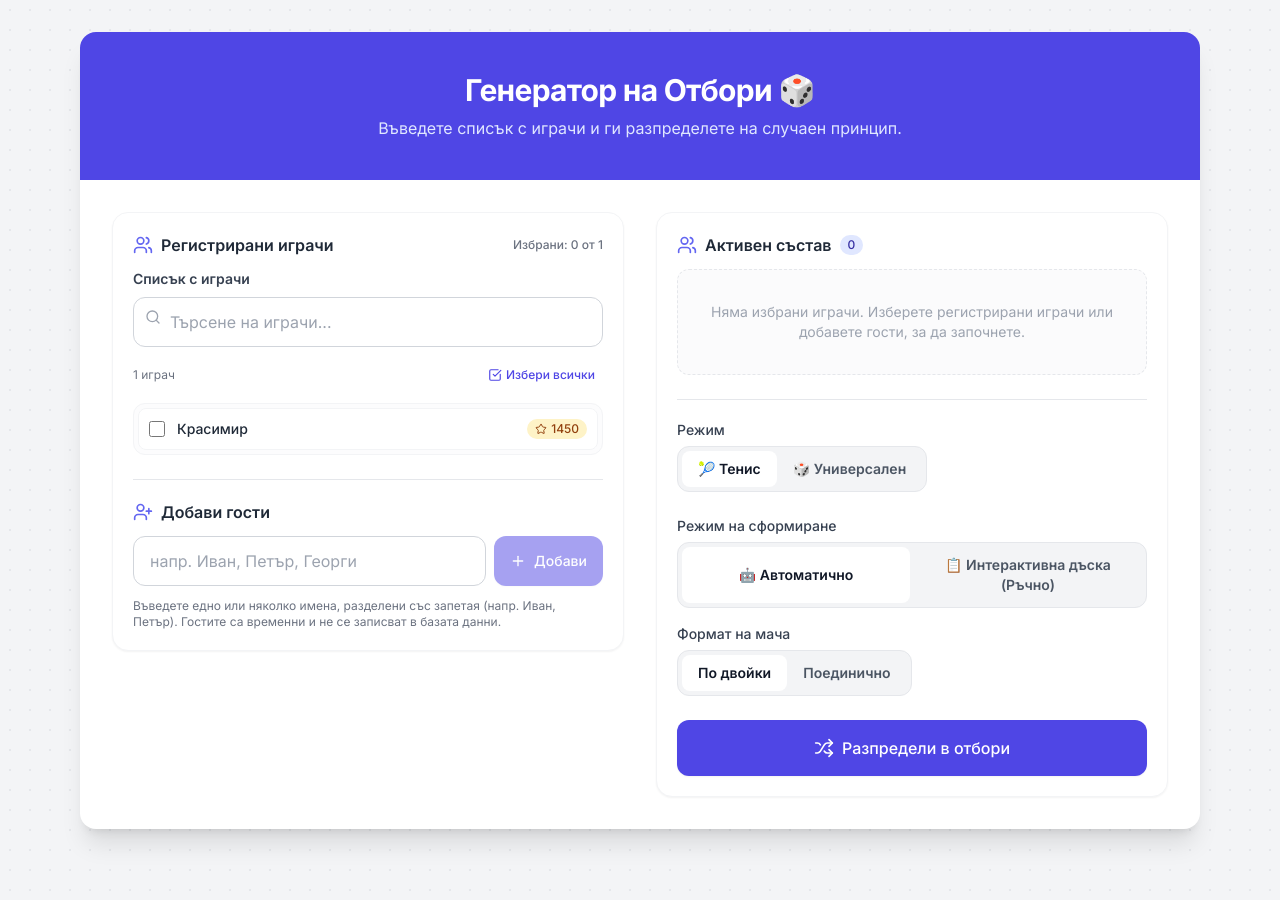
it: GeneratorPage Integration Tests › updates PlayerSelector badges when format toggles and respects format-aware ratings
Check: the text "1450" is shown, box [527,419,587,439]
Check: the text "1750" is not shown
Toggle format to singles: displays 1750
Click the button "Поединично": (847,673) [787,655,906,691]
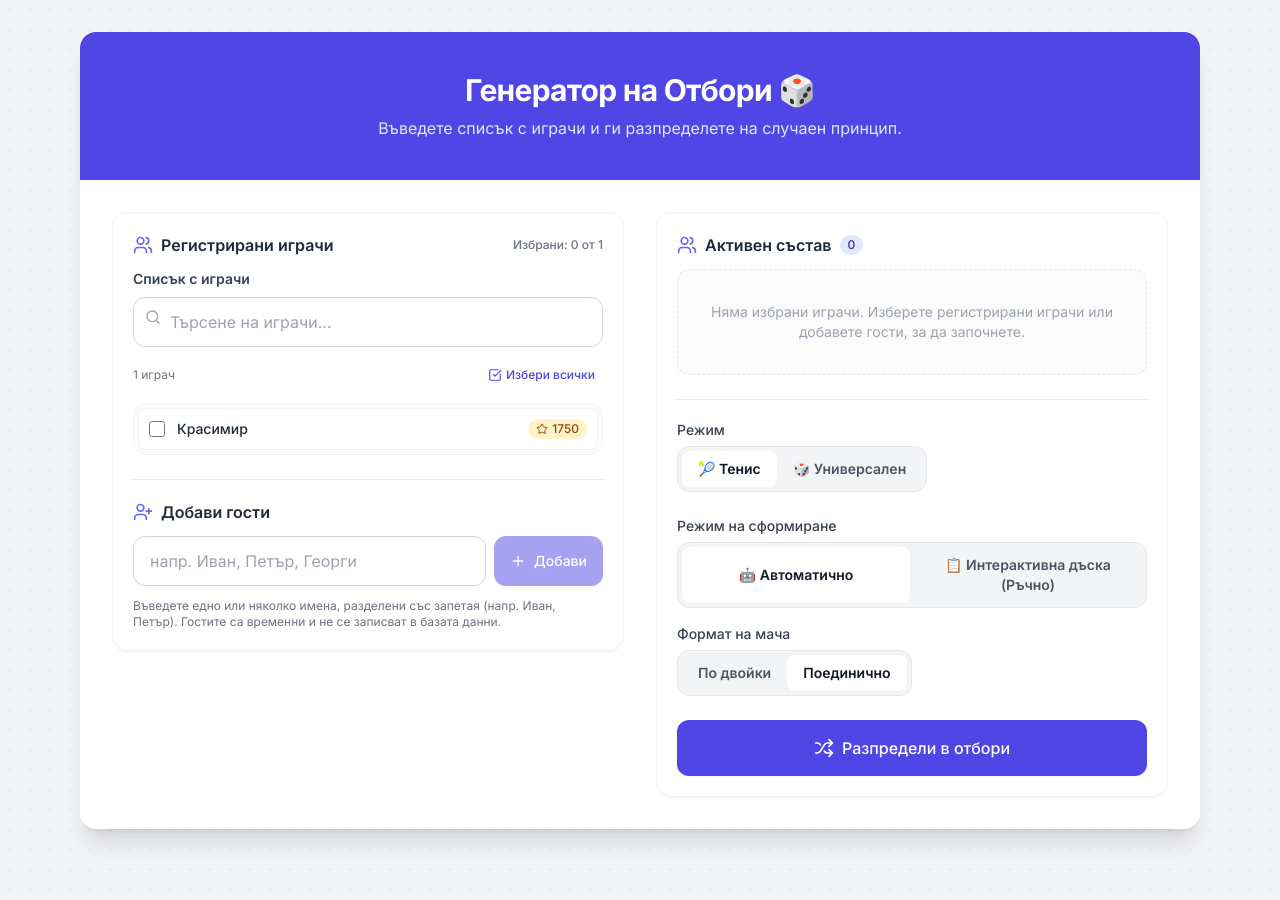
Check: the text "1750" is shown, box [528,419,587,439]
Check: the text "1450" is gone
Toggle mode to generic: player ratings are stripped/hidden
Click the button "🎲 Универсален": (849,469) [777,451,922,487]
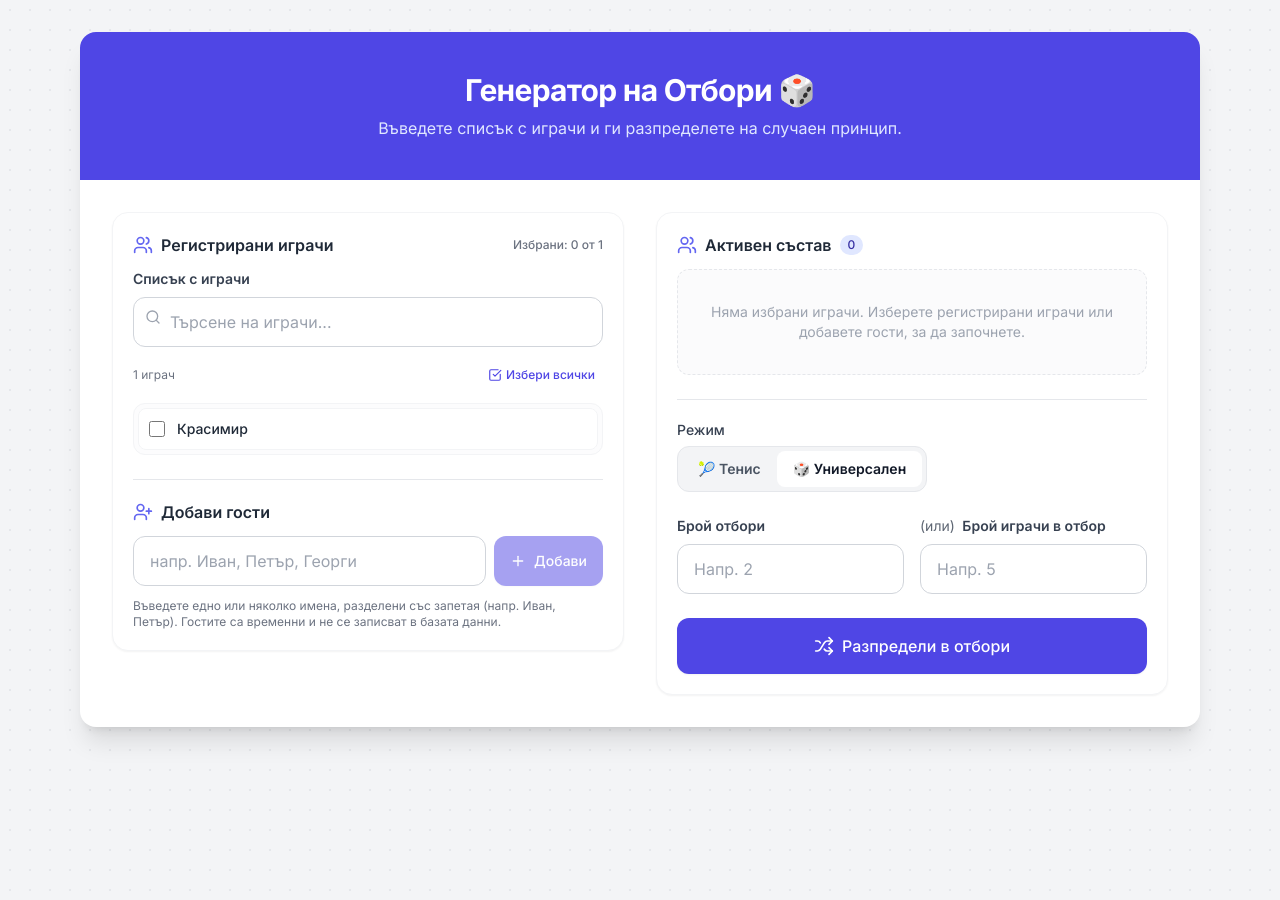
Check: the text "1450" is not shown
Check: the text "1750" is gone
